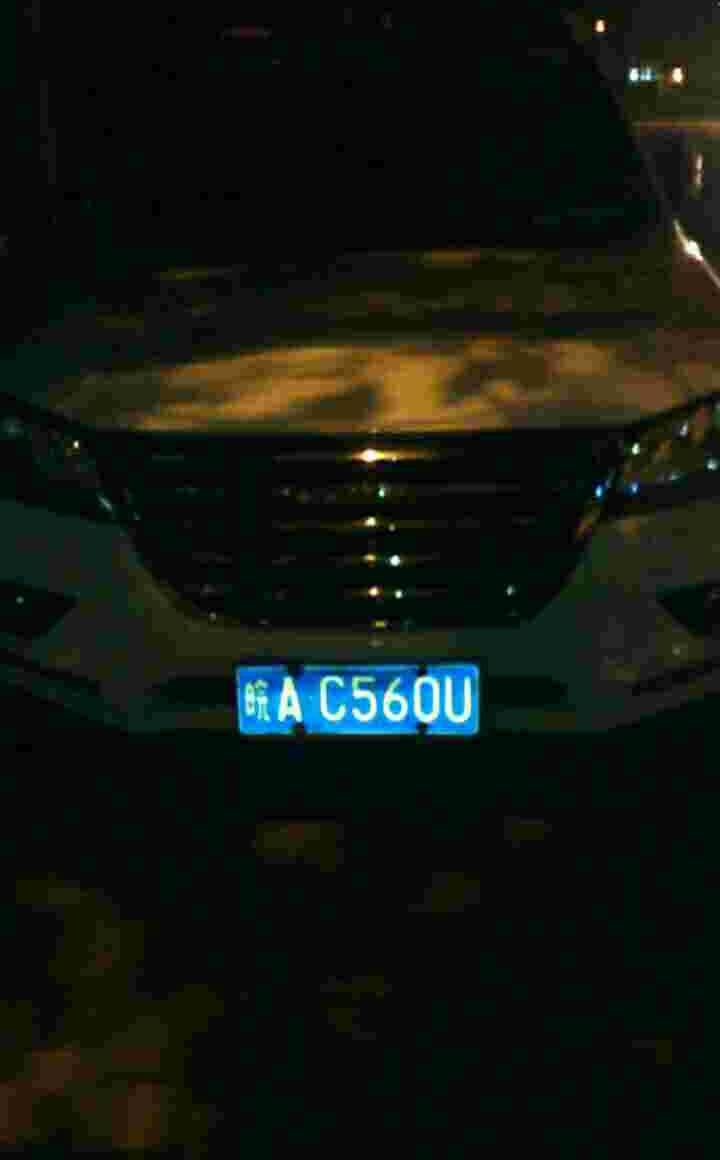license_plate: (244, 661, 474, 739)
